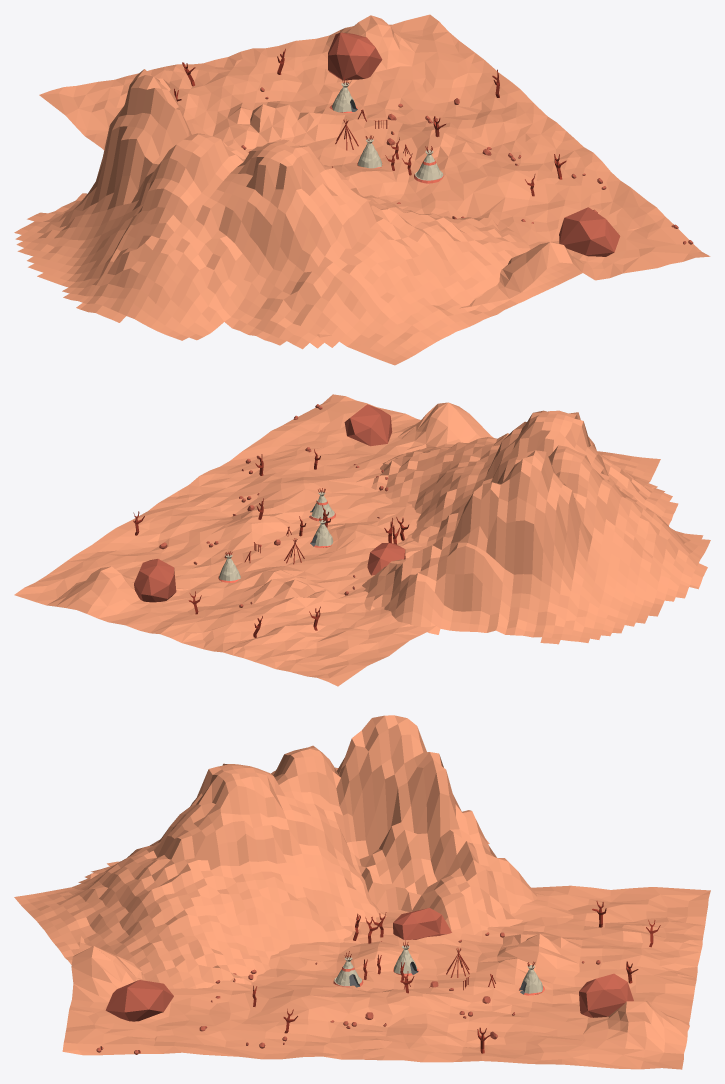
3 renders of one model, top to bottom at view 1: azimuth 30°, elevation 25°; view 2: azimuth 150°, elevation 25°; view 3: azimuth 270°, elevation 25°, orthographic. The views are drawn at different scales.
Visible parts, largest first — view 1: Plane, Plane.002, Icosphere.001, Icosphere, Hut 2; view 2: Plane.002, Plane, Icosphere, Icosphere.001, Icosphere.040; view 3: Plane.002, Plane, Icosphere.001, Icosphere, Icosphere.040.
Part boxes in pixels (left/top/right/bottom): Plane: left=14, top=69, right=582, bottom=365; Plane.002: left=39, top=14, right=710, bottom=337; Icosphere.001: left=559, top=207, right=620, bottom=256; Icosphere: left=328, top=32, right=382, bottom=80; Hut 2: left=414, top=146, right=443, bottom=183; Plane.002: left=14, top=394, right=656, bottom=686; Plane: left=362, top=410, right=710, bottom=644; Icosphere: left=134, top=559, right=176, bottom=602; Icosphere.001: left=344, top=404, right=392, bottom=446; Icosphere.040: left=367, top=543, right=405, bottom=575; Plane.002: left=62, top=873, right=710, bottom=1069; Plane: left=14, top=715, right=537, bottom=988; Icosphere.001: left=105, top=980, right=173, bottom=1021; Icosphere: left=579, top=973, right=633, bottom=1017; Icosphere.040: left=393, top=908, right=451, bottom=939.
Size of the model in its own units: 1938 by 578 by 2151.
